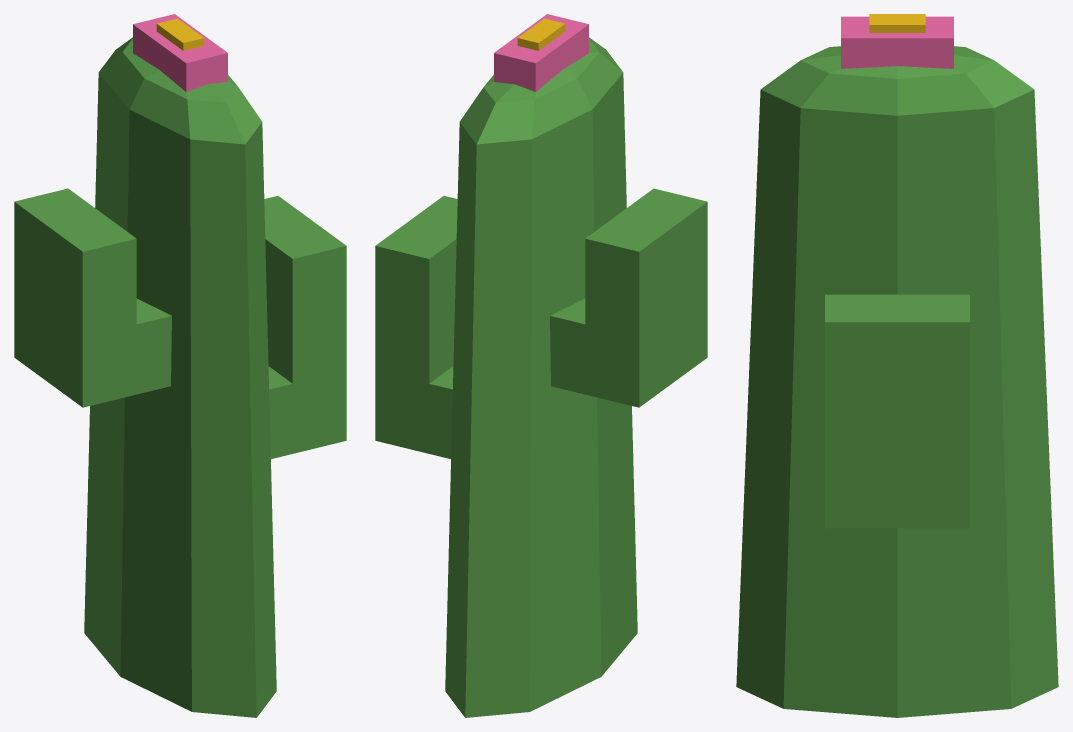
The model's file is env_r5_cactus_tall.glb.
3 renders of one model, left to right at view 1: azimuth 30°, elevation 25°; view 2: azimuth 150°, elevation 25°; view 3: azimuth 270°, elevation 25°, orthographic. The views are drawn at different scales.
Visible parts, largest first — view 1: env_r5_cactus_tall; view 2: env_r5_cactus_tall; view 3: env_r5_cactus_tall.
Part boxes in pixels (bbox=[...]): env_r5_cactus_tall: bbox=[14, 14, 346, 717]; env_r5_cactus_tall: bbox=[375, 14, 707, 717]; env_r5_cactus_tall: bbox=[736, 14, 1058, 717].
Size of the model in its own units: 1.4 by 3.2 by 1.4.
1 material, 1 textured.
